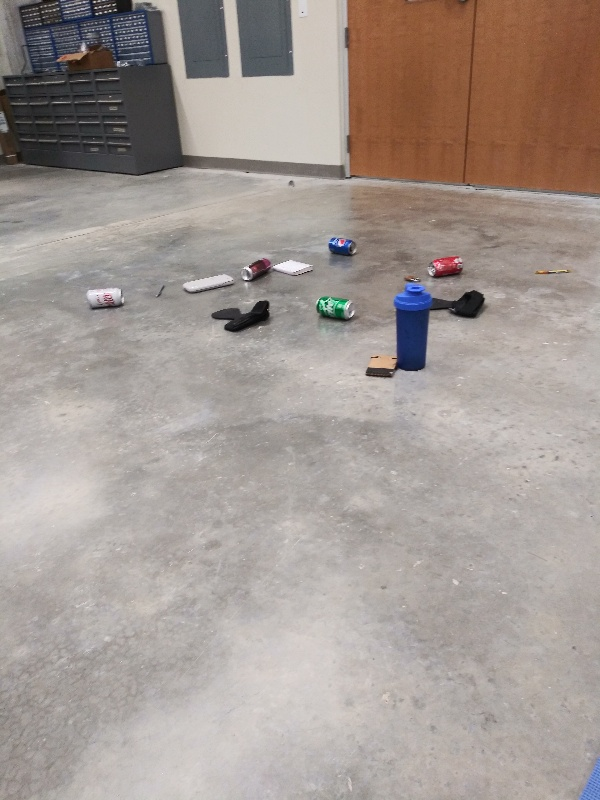can: (81, 284, 128, 311), (314, 291, 356, 320), (426, 254, 466, 278), (240, 255, 273, 284), (327, 232, 360, 255)
